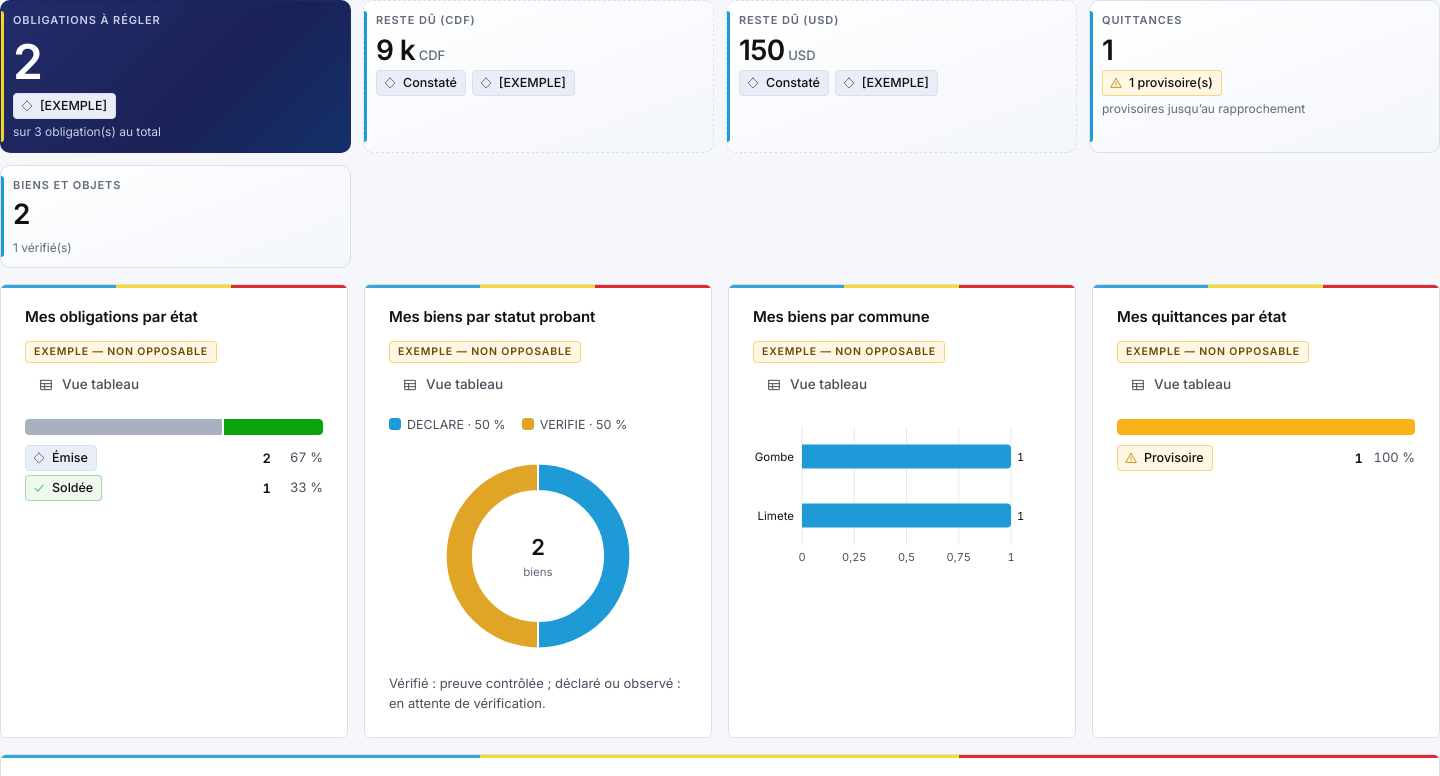
Test case: Espace contribuable — visuel › tuiles par devise (jamais additionnées), états des obligations, biens et vue tableau
Check: the element "Reste dû (CDF) 9 k CDF Constaté [EXEMPLE]" is shown, box 363,0 -> 714,153
Check: the element named "Reste dû (USD) : 150" is shown, box 726,0 -> 1077,153
Click the button "Vue tableau" below "Mes obligations par état". click: (89, 385)
box: 25,367 -> 152,403
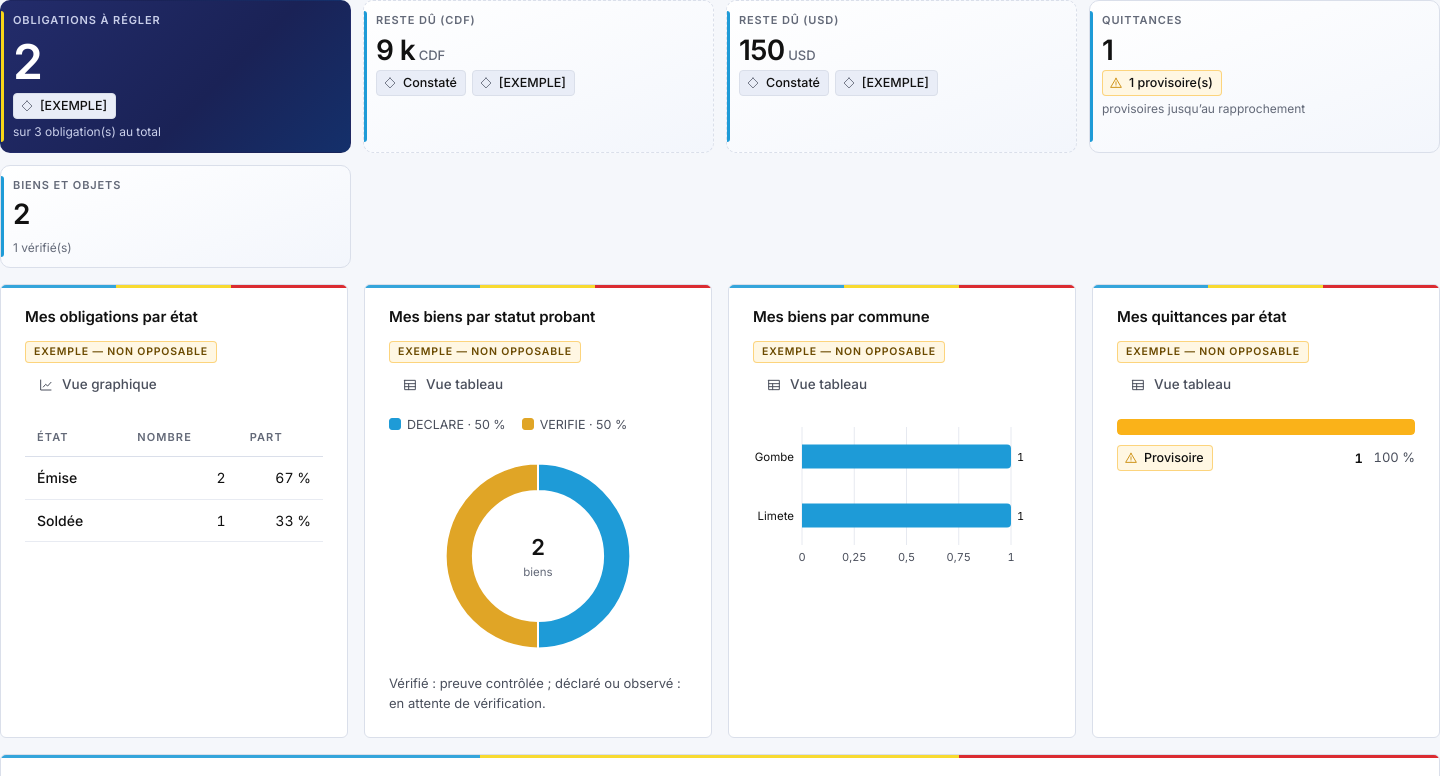
Check: the table is shown, box 25,419 -> 323,542
